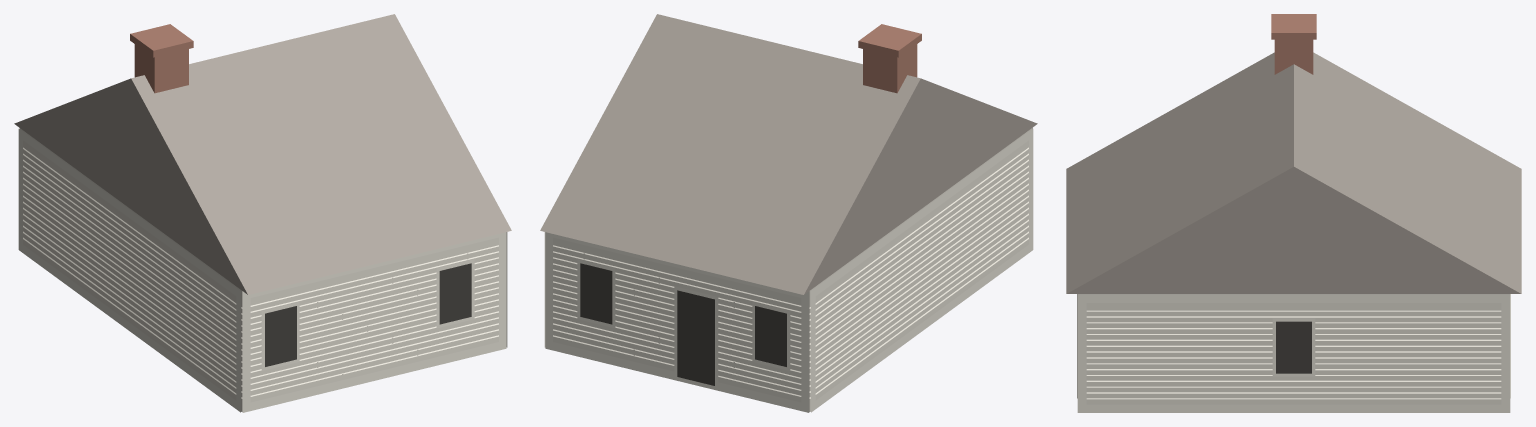
Rendered from recon_1835_blk_lake_clark_d5_03__inferred_1835.glb.
3 views of the same model, side by side, from view 1: azimuth 30°, elevation 25°; view 2: azimuth 150°, elevation 25°; view 3: azimuth 270°, elevation 25° (orthographic). The views are drawn at different scales.
Parts seen in each view (by area): view 1: recon_1835_blk_lake_clark_d5_03__inferred_1835; view 2: recon_1835_blk_lake_clark_d5_03__inferred_1835; view 3: recon_1835_blk_lake_clark_d5_03__inferred_1835.
Part boxes in pixels (x1,y1,x2,y2): recon_1835_blk_lake_clark_d5_03__inferred_1835: (14, 14, 511, 412); recon_1835_blk_lake_clark_d5_03__inferred_1835: (540, 14, 1037, 412); recon_1835_blk_lake_clark_d5_03__inferred_1835: (1066, 14, 1521, 412).
Bounding box in the file's own units: 6.52 × 6.67 × 9.9.
